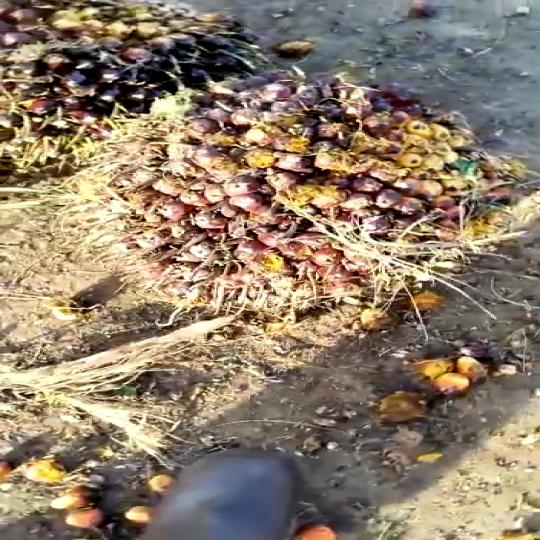masak: (93, 55, 535, 306)
